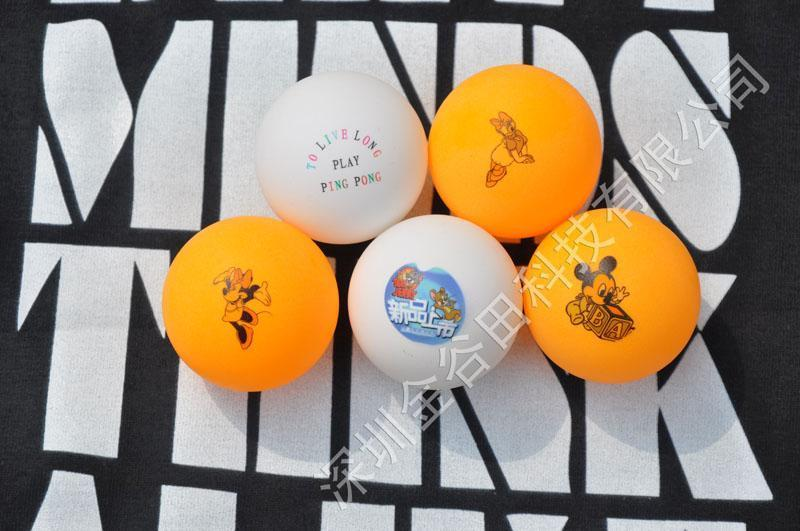ball: (156, 210, 342, 396), (342, 210, 527, 394), (520, 204, 704, 386), (424, 60, 609, 241), (246, 65, 430, 244)
